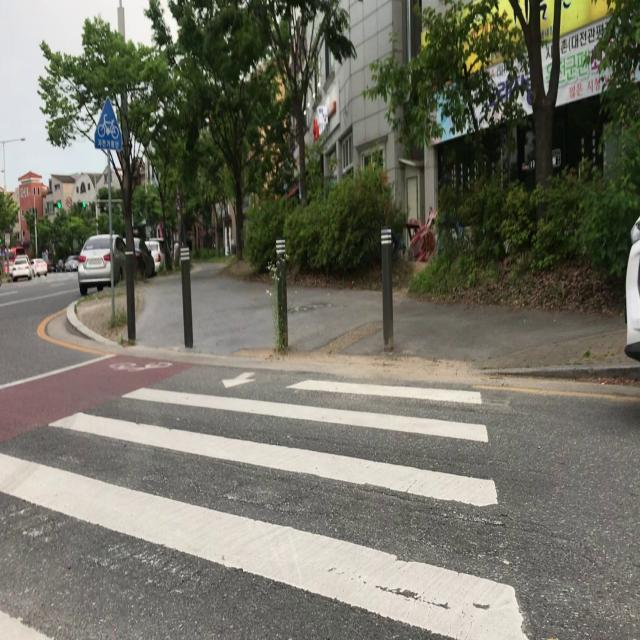횡단보도: (0, 362, 529, 640)
